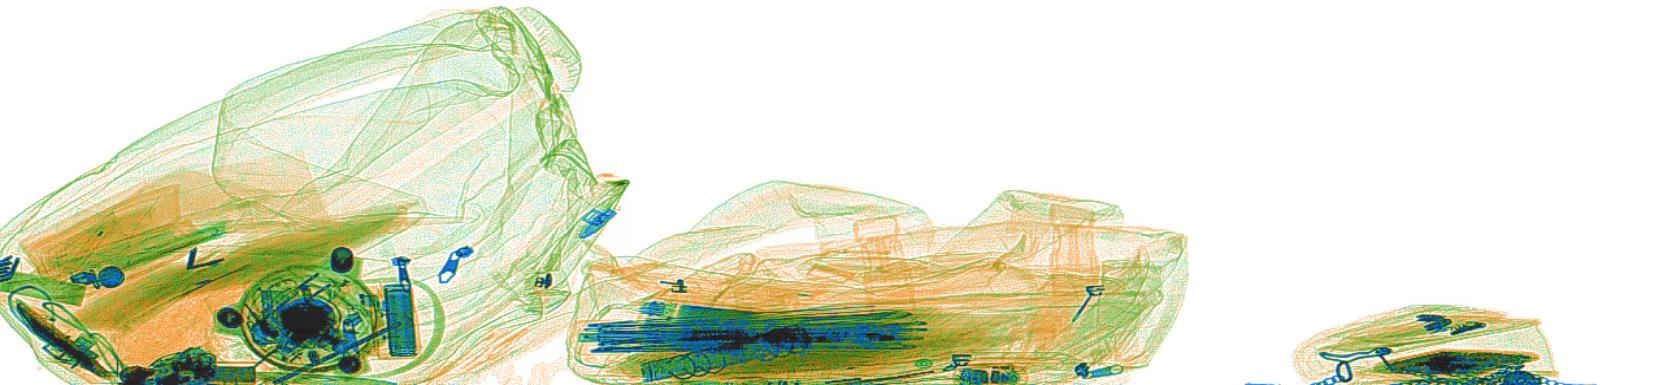battery: (382, 282, 418, 358)
